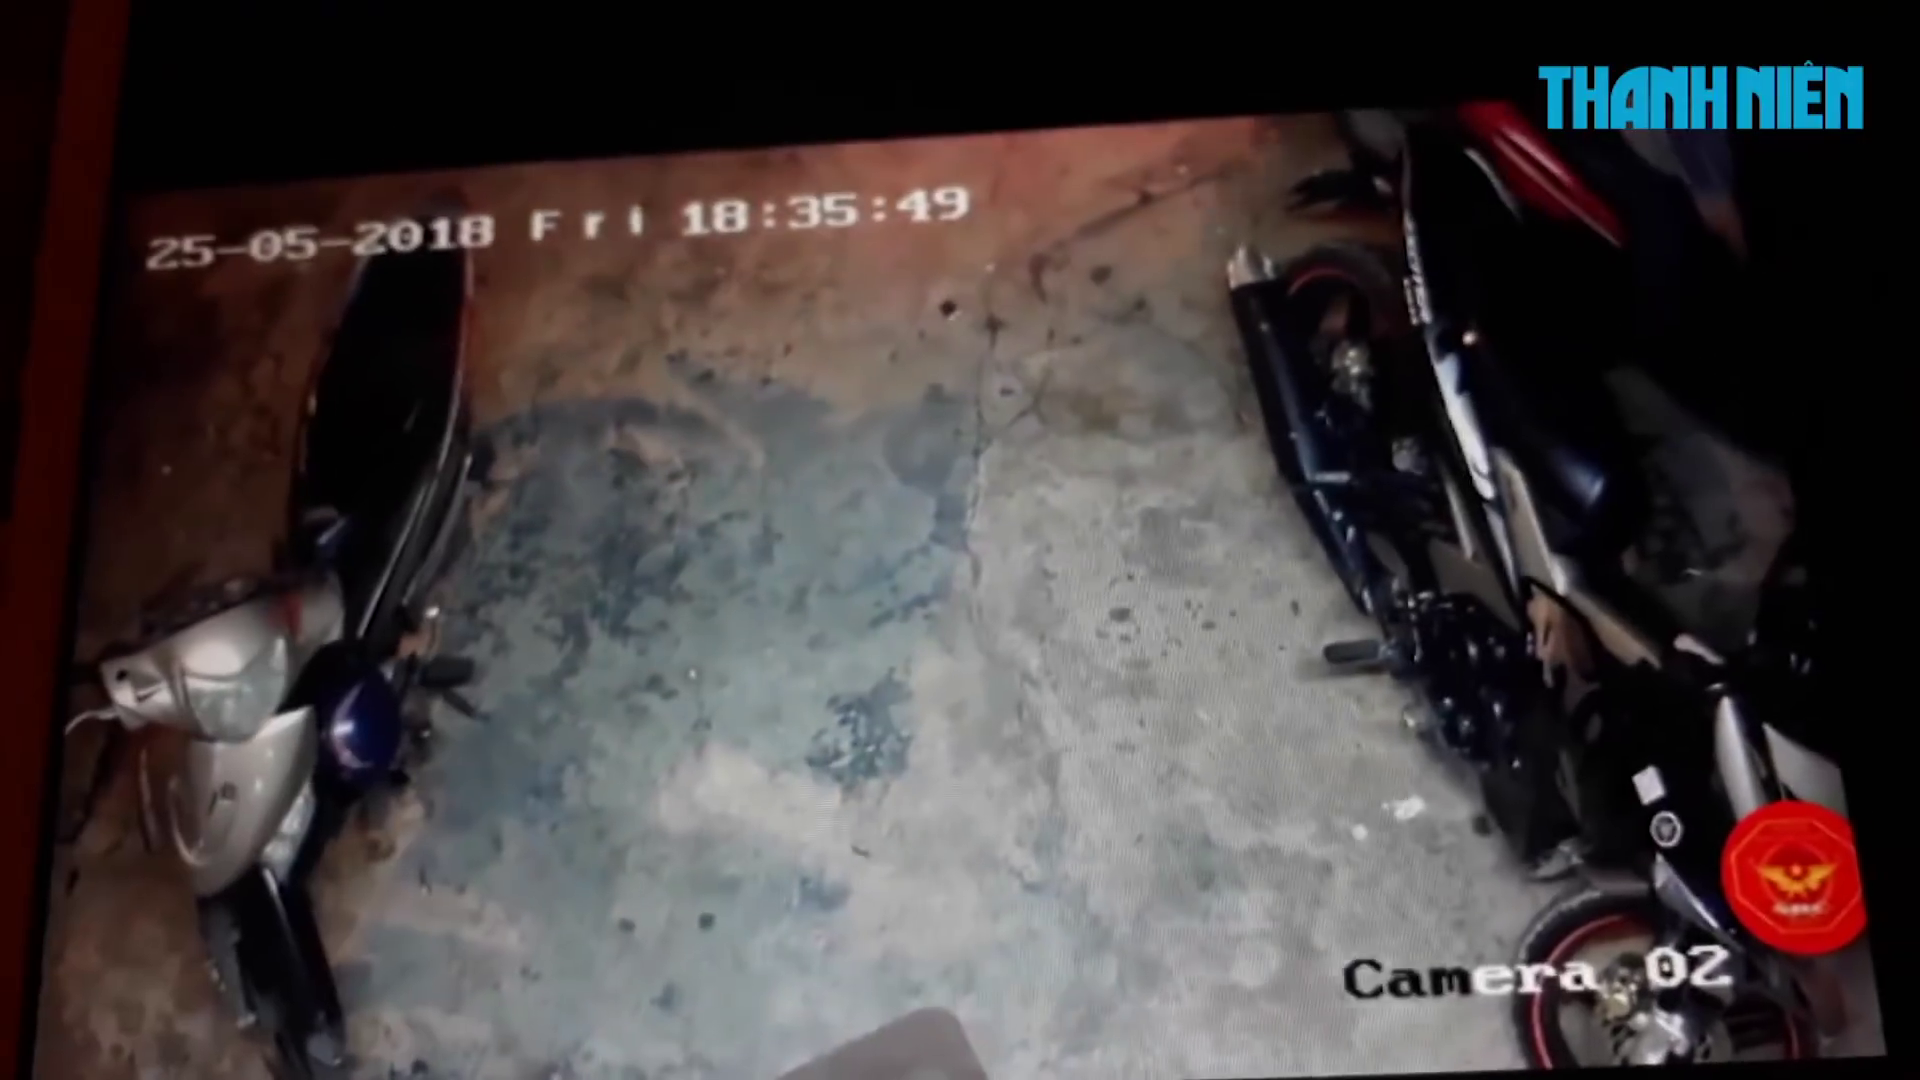Motorcycle: (1224, 98, 1890, 1068)
